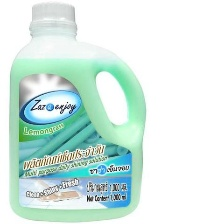cleaning_solution: (6, 0, 149, 224)
